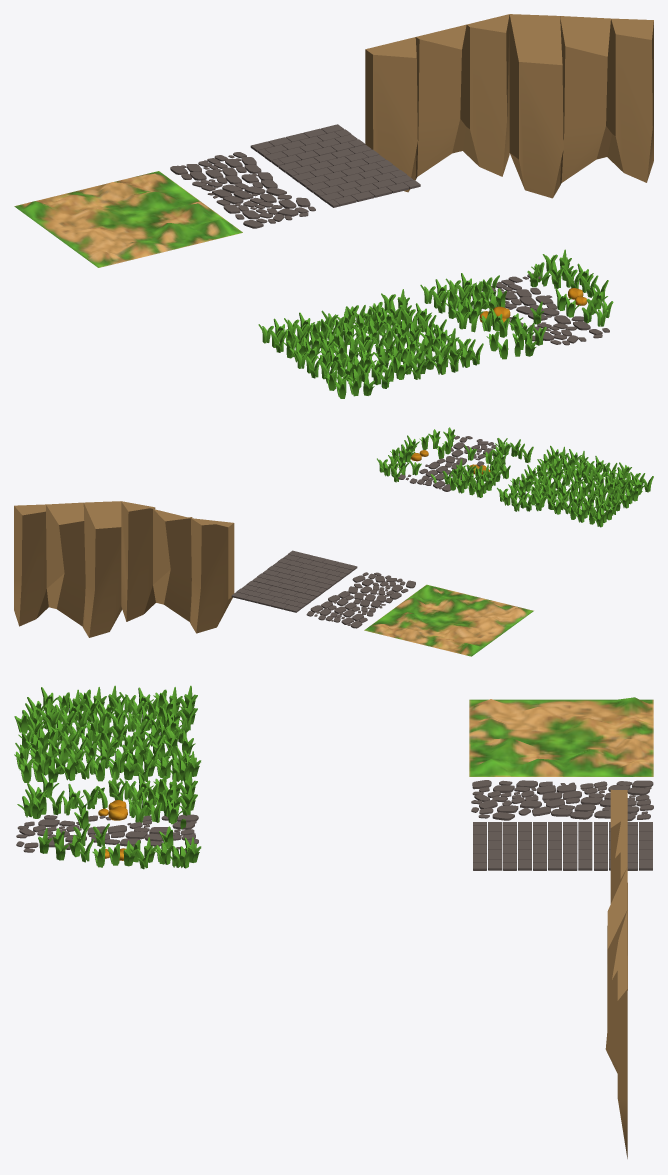
The model's file is extra_for_modular.fbx.
The picture shows the model from 3 angles, top to bottom: view 1: azimuth 30°, elevation 25°; view 2: azimuth 150°, elevation 25°; view 3: azimuth 270°, elevation 25°; orthographic projection. The views are drawn at different scales.
Visible parts, largest first — view 1: outer_slop, outer_midle, grass, land_3D, grassand_rocks, floor_bricks, floor_rocks; view 2: outer_slop, outer_midle, grass, land_3D, grassand_rocks, floor_bricks, floor_rocks; view 3: land_3D, grass, grassand_rocks, floor_bricks, floor_rocks, outer_slop, outer_midle.
Part boxes in pixels (box(x1,y1,x2,y2)): outer_slop: box(509, 14, 653, 198); outer_midle: box(365, 14, 509, 192); grass: box(258, 289, 483, 398); land_3D: box(14, 171, 242, 267); grassand_rocks: box(420, 249, 613, 359); floor_bricks: box(250, 124, 420, 207); floor_rocks: box(170, 152, 315, 228); outer_slop: box(14, 501, 122, 637); outer_midle: box(121, 501, 234, 633); grass: box(497, 445, 653, 527); land_3D: box(364, 584, 533, 656); grassand_rocks: box(377, 427, 533, 497); floor_bricks: box(231, 550, 357, 612); floor_rocks: box(306, 572, 415, 628); land_3D: box(469, 697, 653, 776); grass: box(14, 685, 201, 782); grassand_rocks: box(16, 771, 201, 869); floor_bricks: box(473, 822, 652, 870); floor_rocks: box(471, 780, 653, 821); outer_slop: box(605, 867, 627, 1158); outer_midle: box(610, 789, 627, 990).
Size of the model in its own units: 36.9 by 11.38 by 29.87.
Materials: 4 (1 with a texture image).
